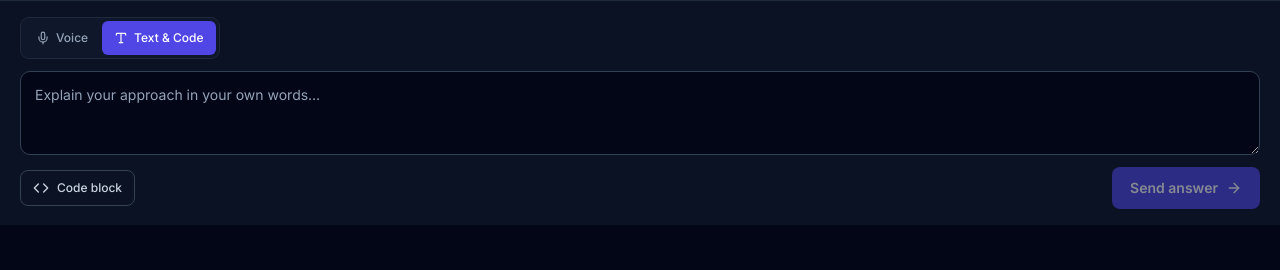
Test: Re-record throws the take away and starts a new one
The image size is (1280, 270).
Click the button "Voice". click: (62,38)
box: [24,21,100,55]
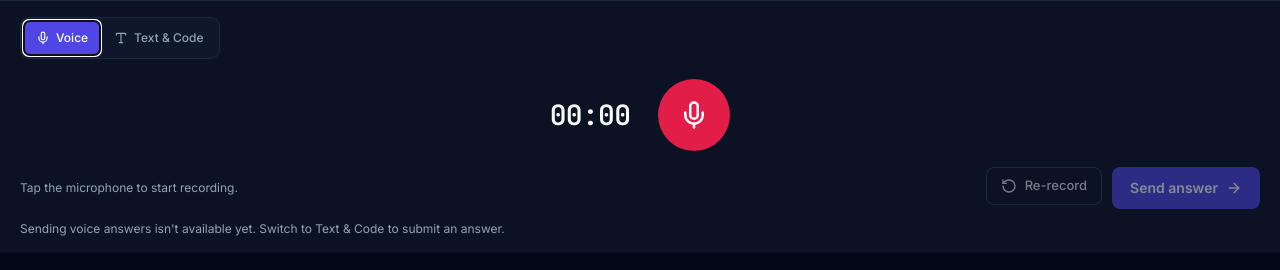
Click the button named "Start recording". click: (694,115)
box: [658,79,730,151]
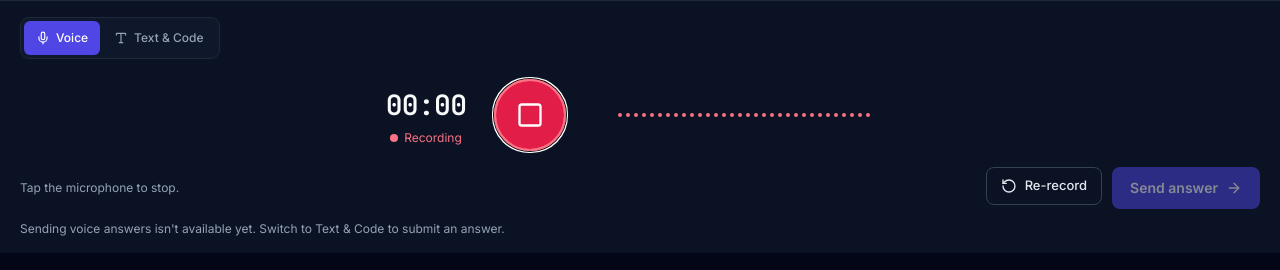
Click the button named "Stop recording". click: (530,115)
box: [494,79,566,151]
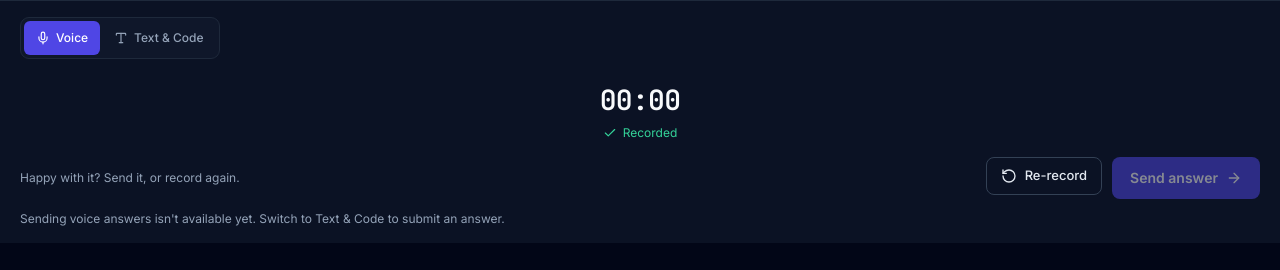
Click the button "Re-record". click: (1044,176)
box: [986,157,1102,195]
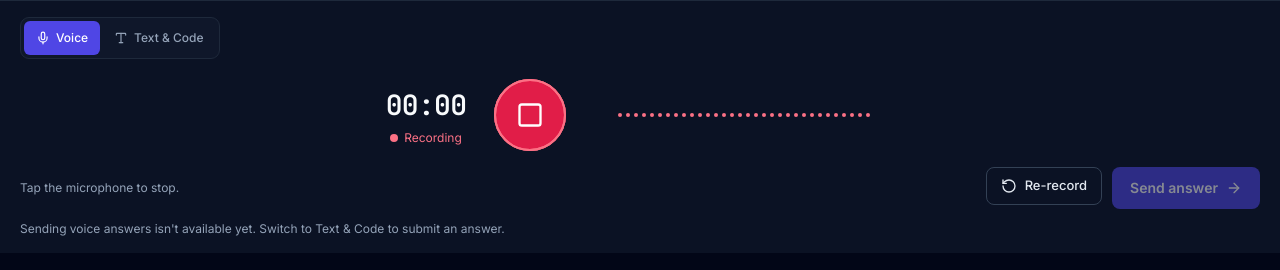
Expected: the text named "Recording duration" reads "00:00", [386,86,466,123]
Expected: the button named "Stop recording" is shown, [494,79,566,151]
